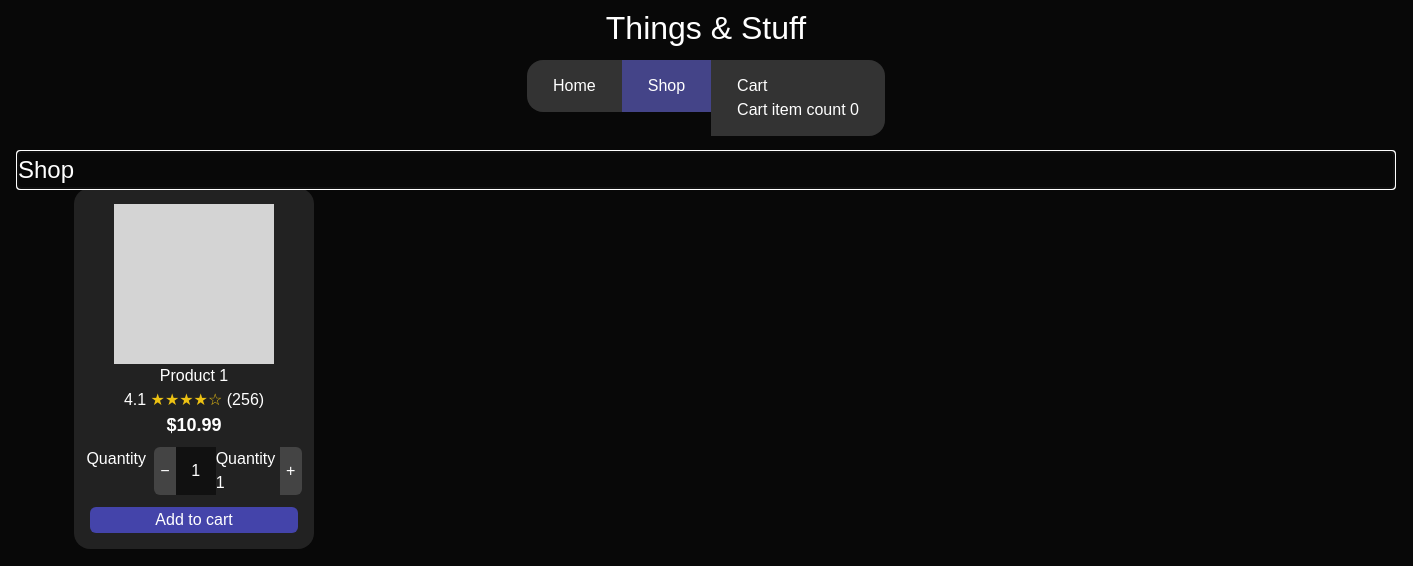
Scenario: Decrement button › decreases value by 1
The image size is (1413, 566).
Click the button "−" at {"x": 165, "y": 471}, box [154,447,176,495]
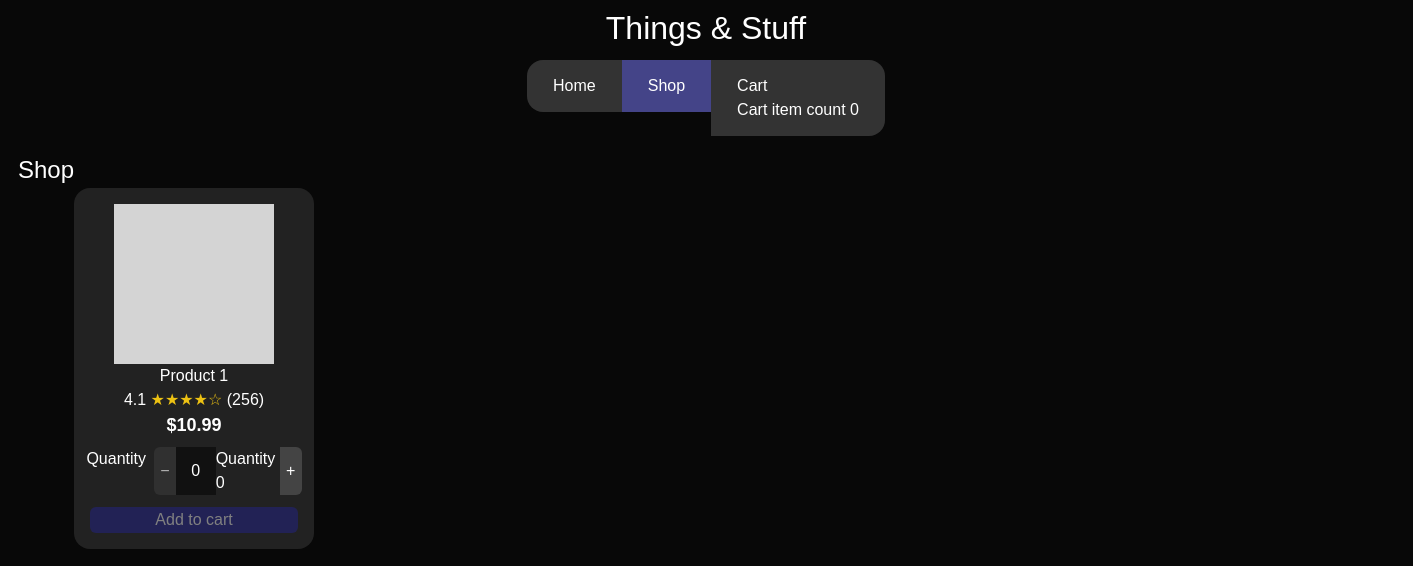
Check: the number field labelled "Quantity" holds "0", box [176,447,216,495]
